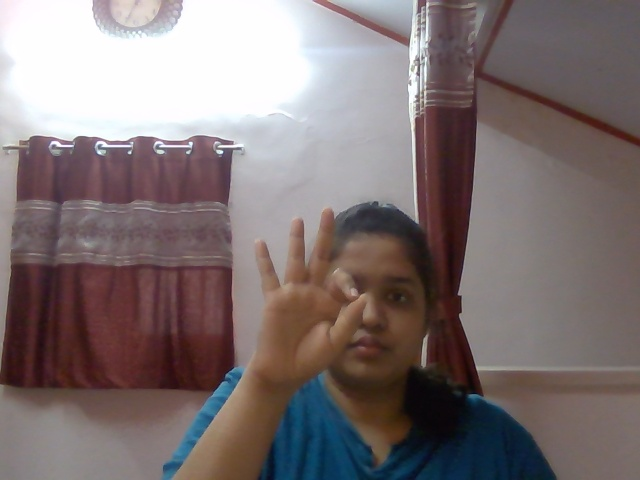f: (232, 199, 383, 387)
